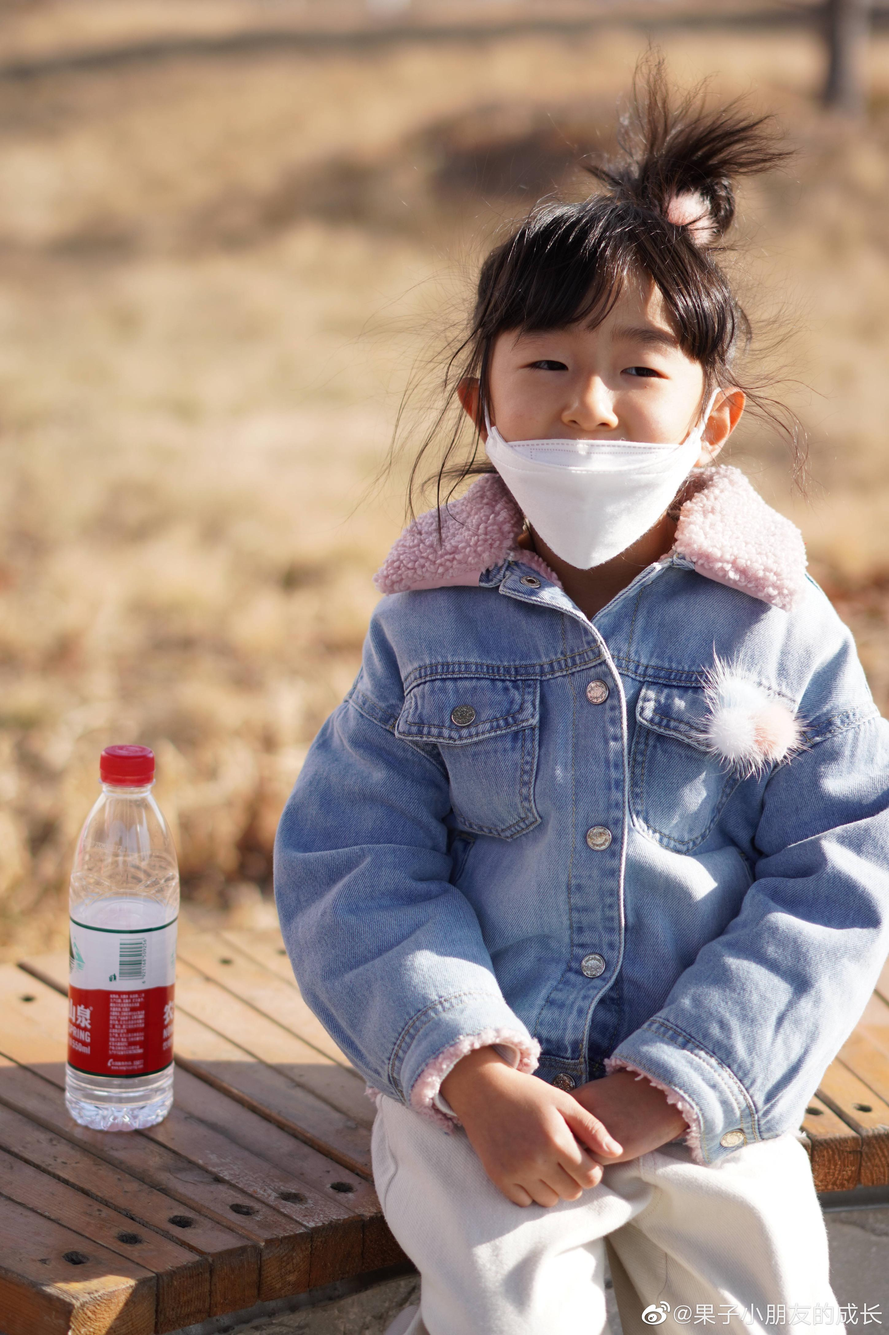WRONG: (494, 309, 699, 566)
